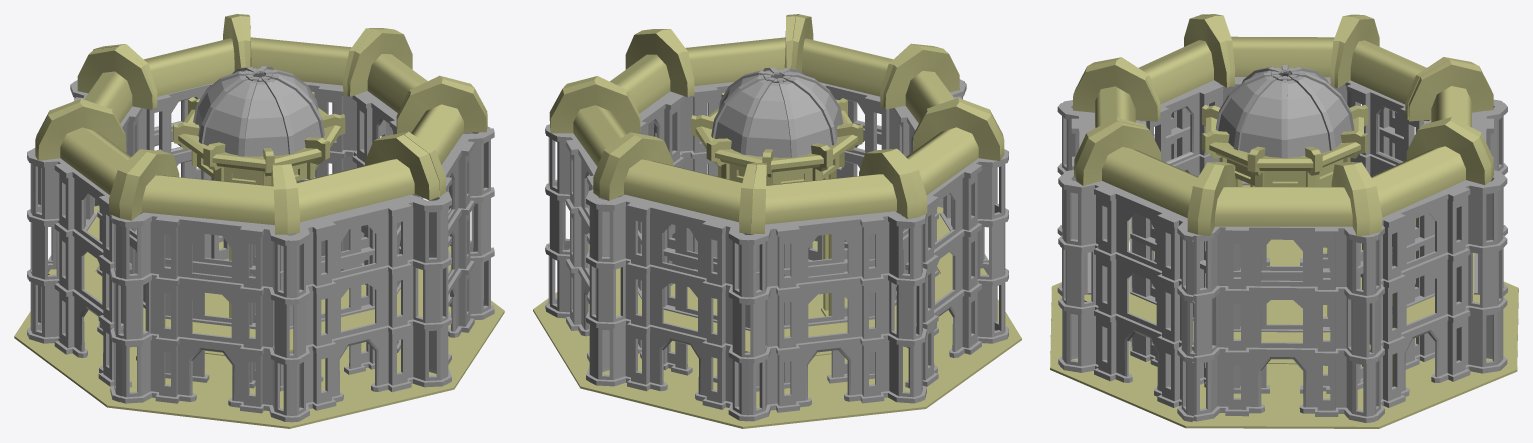
File: coliseo_final_FINAL.fbx
The picture shows the model from 3 angles, left to right: view 1: azimuth 30°, elevation 25°; view 2: azimuth 150°, elevation 25°; view 3: azimuth 270°, elevation 25°; orthographic projection. The views are drawn at different scales.
Parts seen in each view (by area): view 1: pasted__Borde_UVs4, pared_exterior_puertas_UVs12, pared_exterior_puertas_UVs14, pared_exterior_puertas_UVs9, piso2_UVs, pared_exterior_puertas_UVs11, pSphere1, coronita1_UVs, pared_interior_UVs3, pared_interior_UVs4, pared_interior_UVs, piso3_UVs (+6 smaller); view 2: pasted__Borde_UVs4, pared_exterior_puertas_UVs13, pared_exterior_puertas_UVs3, piso2_UVs, pared_exterior_puertas_UVs9, pared_exterior_puertas_UVs4, pSphere1, coronita1_UVs, pared_interior_UVs6, pared_interior_UVs, pared_interior_UVs4, piso3_UVs (+6 smaller); view 3: pasted__Borde_UVs4, pared_exterior_puertas_UVs5, pared_exterior_puertas_UVs11, pared_exterior_puertas_UVs4, piso2_UVs, pSphere1, coronita1_UVs, pared_exterior_puertas_UVs3, pared_exterior_puertas_UVs14, pared_interior_UVs1, pared_interior_UVs3, pared_interior_UVs6 (+5 smaller).
Part boxes in pixels (box(x1,y1,x2,y2)): pasted__Borde_UVs4: box(35, 14, 487, 234); pared_exterior_puertas_UVs12: box(118, 212, 294, 421); pared_exterior_puertas_UVs14: box(289, 194, 447, 422); pared_exterior_puertas_UVs9: box(27, 154, 132, 401); piso2_UVs: box(14, 241, 504, 428); pared_exterior_puertas_UVs11: box(429, 128, 494, 384); pSphere1: box(193, 66, 324, 156); coronita1_UVs: box(173, 91, 345, 317); pared_interior_UVs3: box(165, 233, 281, 391); pared_interior_UVs4: box(281, 225, 374, 390); pared_interior_UVs: box(138, 83, 228, 260); piso3_UVs: box(48, 205, 451, 351); pasted__Borde_UVs4: box(549, 14, 1004, 234); pared_exterior_puertas_UVs13: box(745, 211, 921, 421); pared_exterior_puertas_UVs3: box(590, 194, 749, 421); piso2_UVs: box(533, 240, 1021, 428); pared_exterior_puertas_UVs9: box(905, 154, 1008, 400); pared_exterior_puertas_UVs4: box(546, 126, 609, 382); pSphere1: box(711, 67, 843, 157); coronita1_UVs: box(691, 92, 863, 316); pared_interior_UVs6: box(756, 233, 874, 391); pared_interior_UVs: box(663, 225, 753, 382); pared_interior_UVs4: box(808, 82, 898, 260); piso3_UVs: box(568, 206, 987, 352); pasted__Borde_UVs4: box(1073, 14, 1493, 236); pared_exterior_puertas_UVs5: box(1188, 226, 1375, 422); pared_exterior_puertas_UVs11: box(1060, 180, 1195, 422); pared_exterior_puertas_UVs4: box(1368, 180, 1504, 420); piso2_UVs: box(1050, 239, 1518, 428); pSphere1: box(1215, 65, 1354, 158); coronita1_UVs: box(1202, 104, 1368, 316); pared_exterior_puertas_UVs3: box(1472, 103, 1507, 366); pared_exterior_puertas_UVs14: box(1057, 103, 1095, 365); pared_interior_UVs1: box(1357, 213, 1434, 389); pared_interior_UVs3: box(1129, 80, 1223, 261); pared_interior_UVs6: box(1345, 80, 1430, 286).
Bounding box in the file's own units: 247 × 150 × 247.
